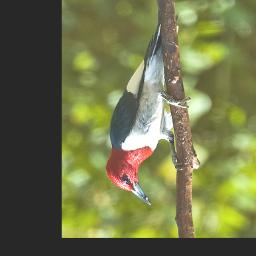Woodpecker: (105, 16, 190, 204)
